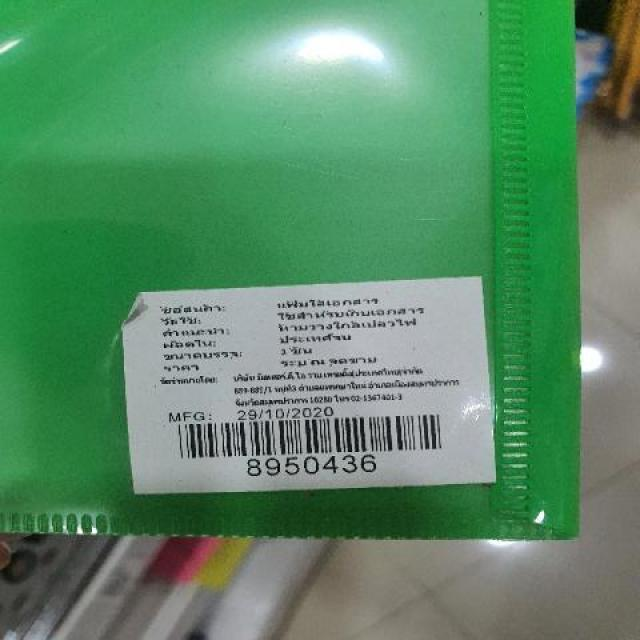Barcode: (158, 404, 462, 480)
